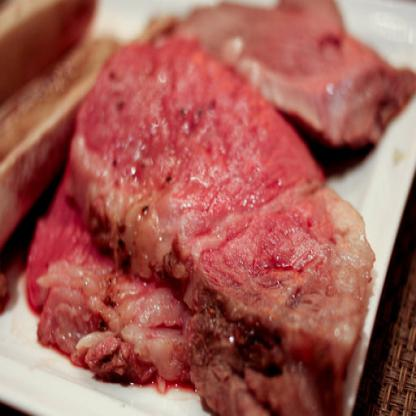beef: (72, 37, 362, 372), (26, 151, 344, 415), (157, 0, 414, 178)
